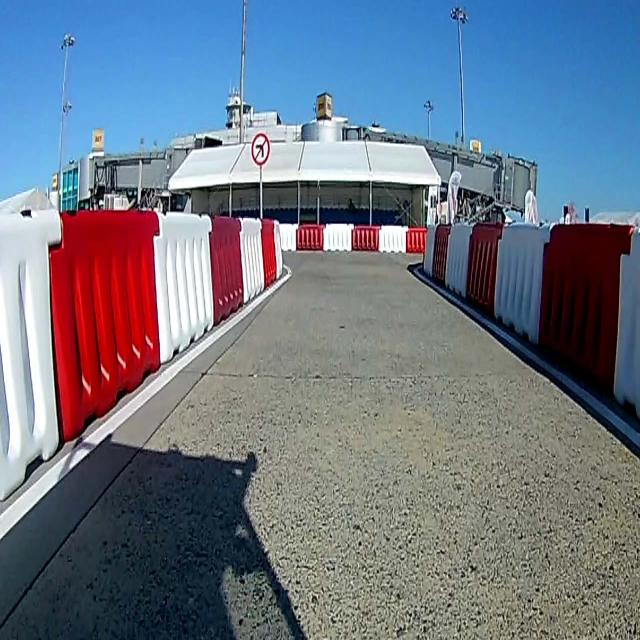soladonulmez: (250, 132, 271, 166)
